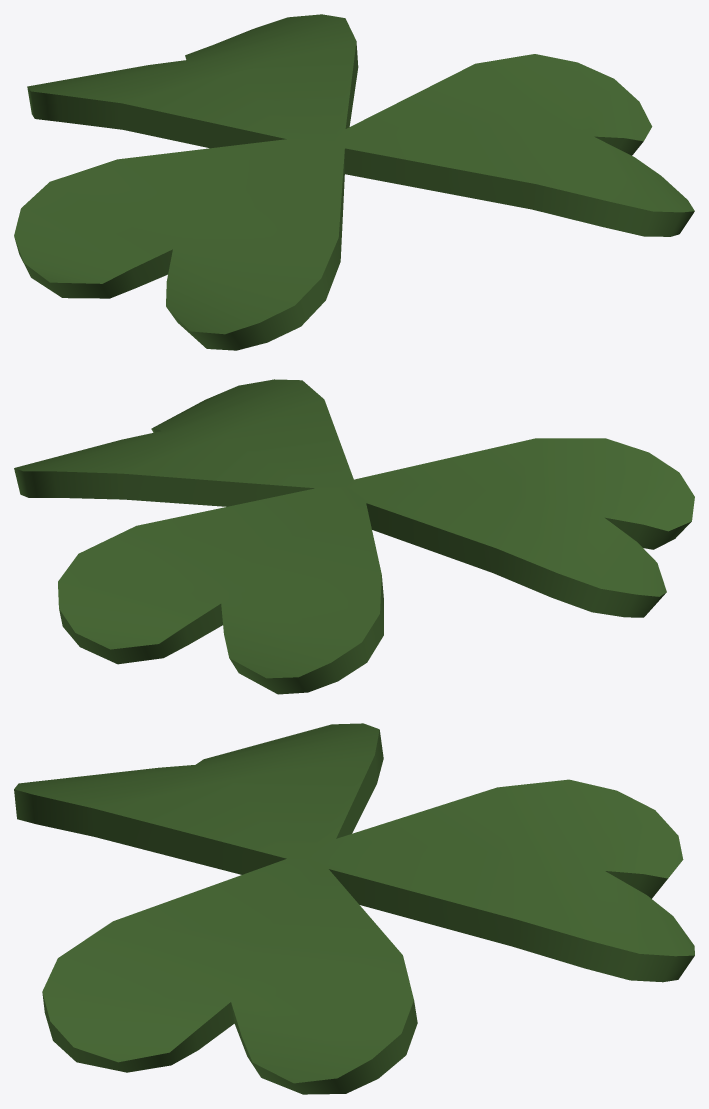
The model's file is Shamrock3_01.fbx.
3 views of the same model, one above another, from view 1: azimuth 30°, elevation 25°; view 2: azimuth 150°, elevation 25°; view 3: azimuth 270°, elevation 25° (orthographic). The views are drawn at different scales.
Parts seen in each view (by area): view 1: Shamrock3_01; view 2: Shamrock3_01; view 3: Shamrock3_01.
Boxes of the visible parts, <box> form: Shamrock3_01: <box>14,14,694,350</box>; Shamrock3_01: <box>14,379,694,694</box>; Shamrock3_01: <box>14,723,694,1094</box>.
Size of the model in its own units: 0.1809 by 0.022 by 0.1554.
